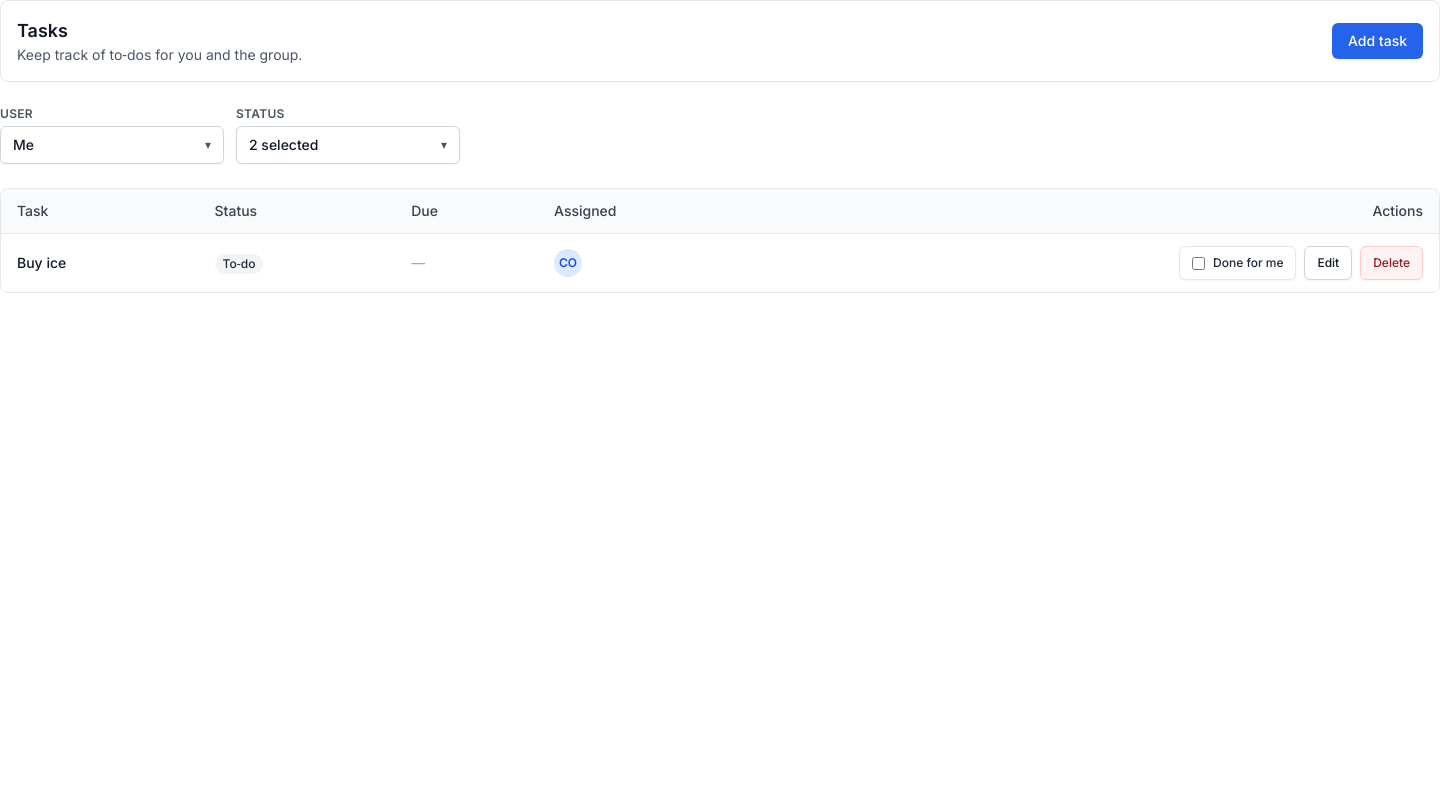
TaskBoard › checks all assignees when Assign to everyone is clicked (persisted on Save)
Expected: the text "Buy ice" is shown, [17,254,66,271]
What coordinates should you click on to do the following:
click the button "Edit"
I would click on:
 (1328, 263)
Its box is [1304,246,1352,280].
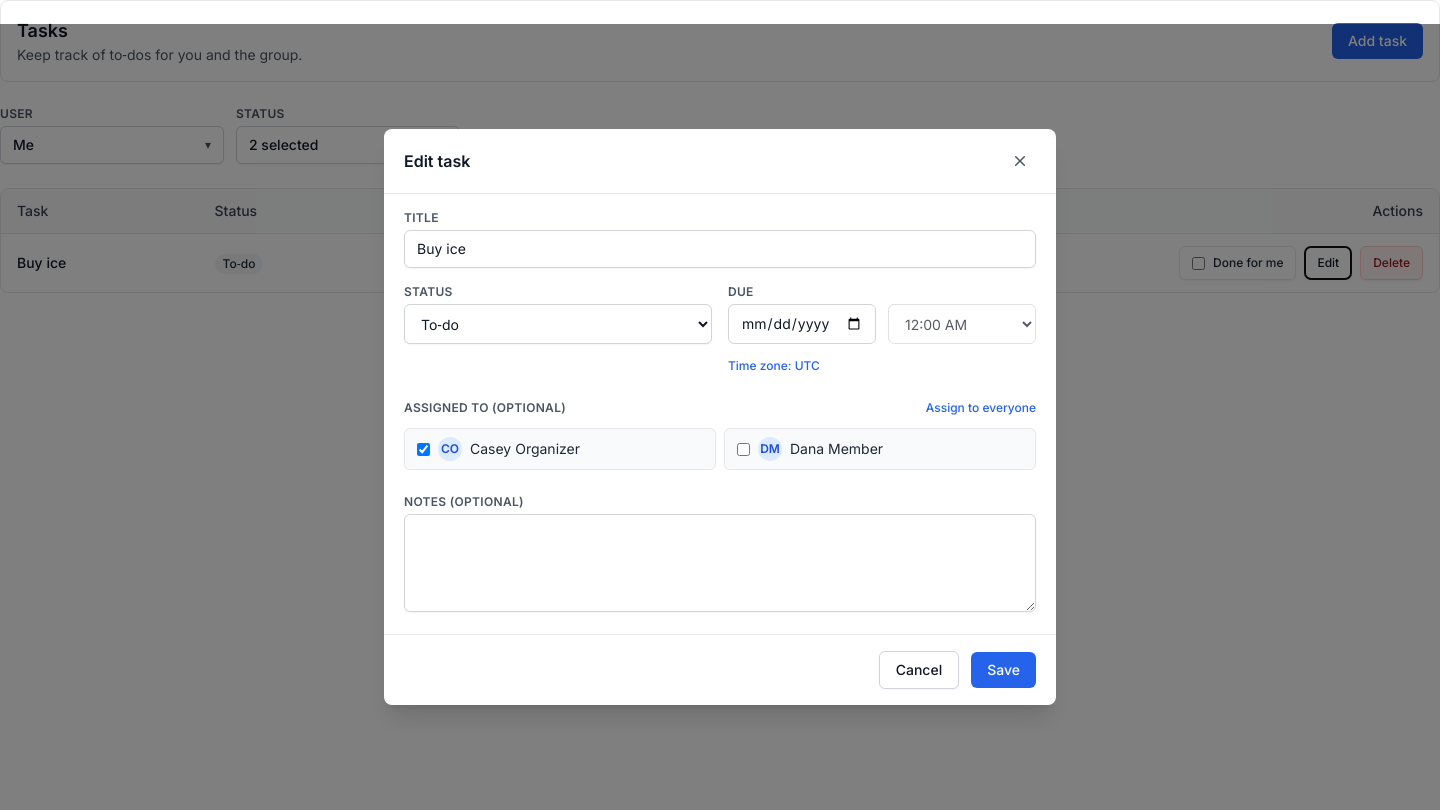
Result: the text "Dana Member" is shown at [790,440,883,457]
Result: the checkbox labelled "DM Dana Member" is not checked at [737,442,750,456]
What coordinates should you click on to do the following:
click the button "Assign to everyone"
I would click on:
 (981, 408)
Its box is [926,400,1036,416].
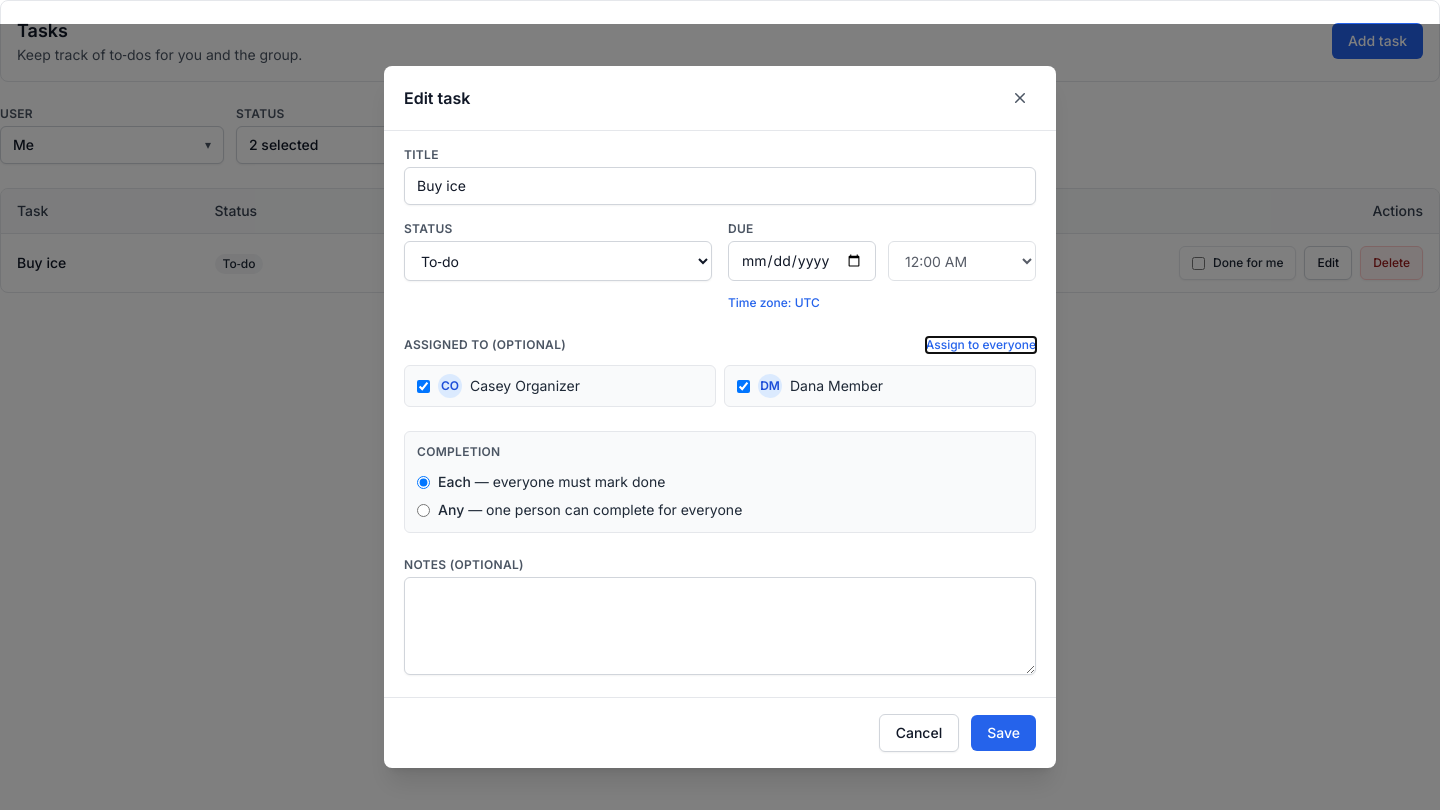
Result: the checkbox labelled "CO Casey Organizer" is checked at [417,380,430,392]
Result: the checkbox labelled "DM Dana Member" is checked at [737,380,750,392]
